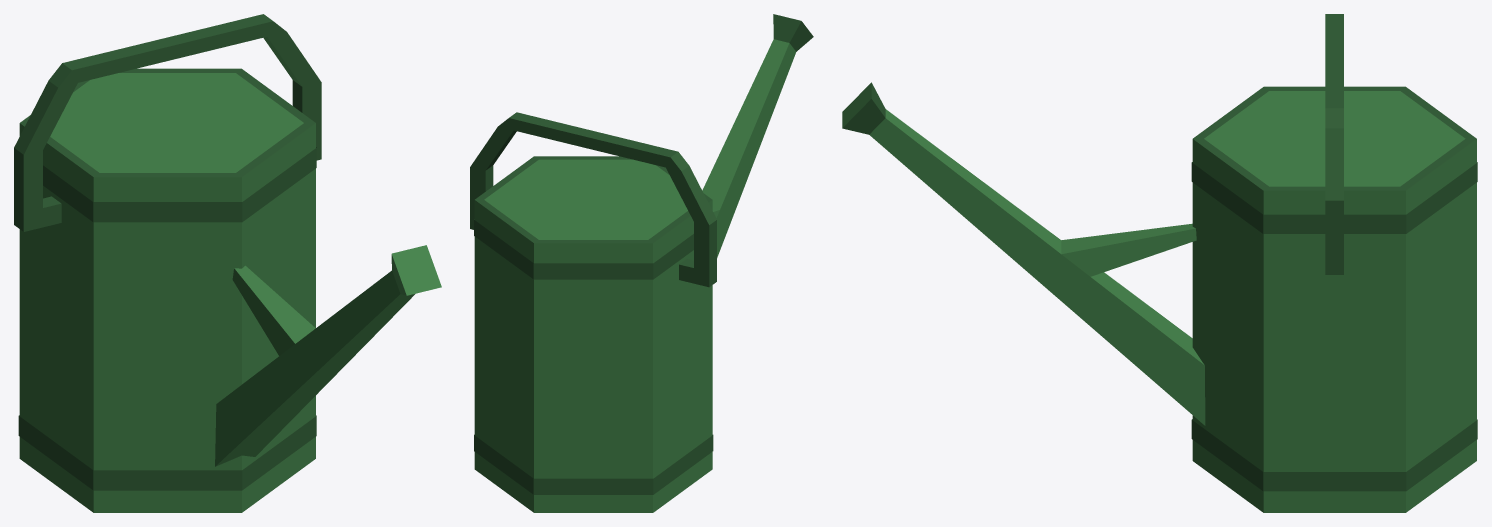
The model's file is Watering_Can_2_Green.fbx.
The picture shows the model from 3 angles, left to right: view 1: azimuth 30°, elevation 25°; view 2: azimuth 150°, elevation 25°; view 3: azimuth 270°, elevation 25°; orthographic projection. The views are drawn at different scales.
Visible parts, largest first — view 1: Watering_Can_2_Green; view 2: Watering_Can_2_Green; view 3: Watering_Can_2_Green.
Boxes of the visible parts, bbox=[...] form: Watering_Can_2_Green: bbox=[14, 14, 441, 512]; Watering_Can_2_Green: bbox=[470, 14, 813, 512]; Watering_Can_2_Green: bbox=[842, 14, 1477, 512].
Bounding box in the file's own units: 46.41 × 62.04 × 89.38.
